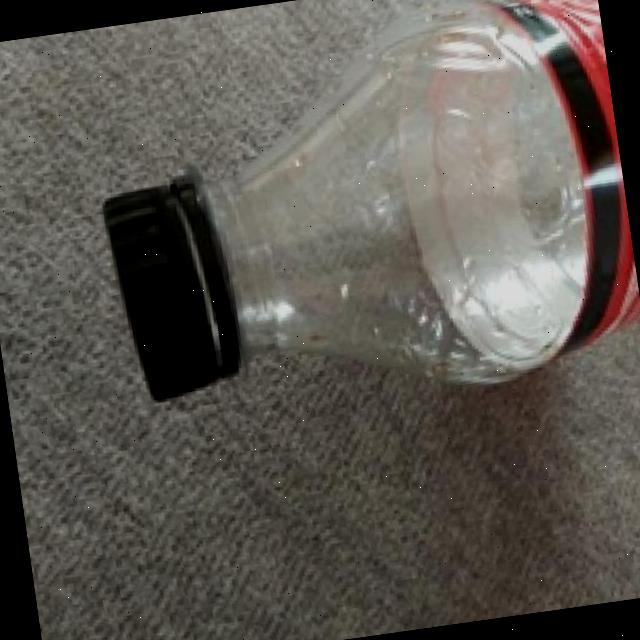trash: (79, 0, 640, 424)
